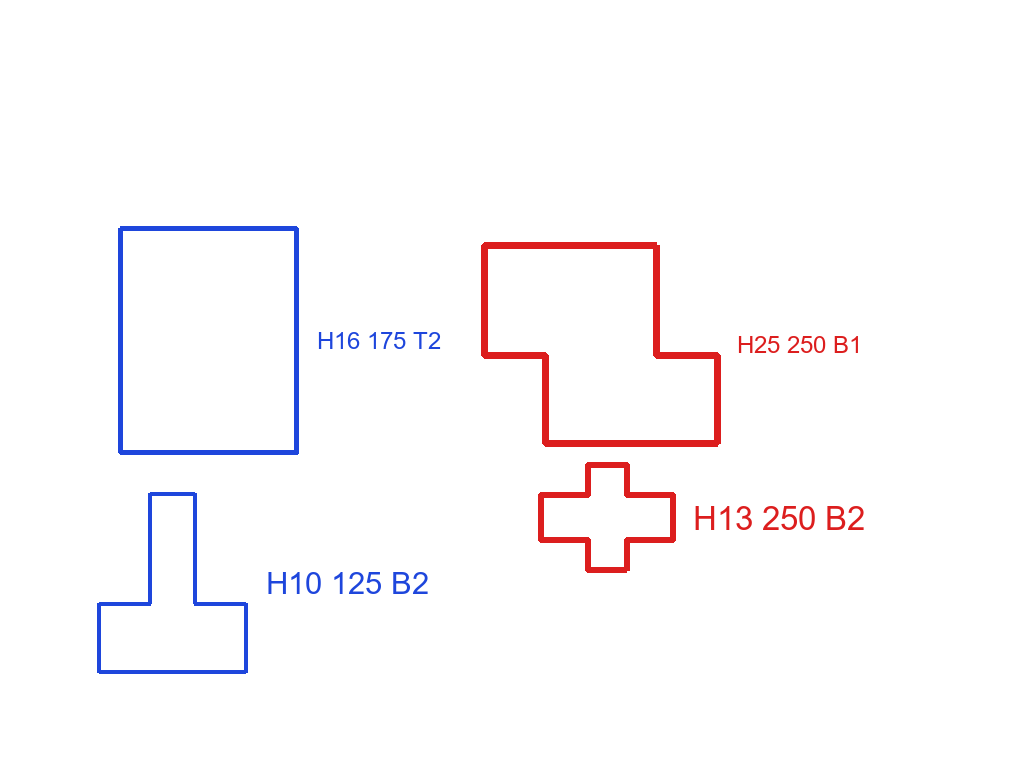shape: (479, 240, 723, 449), (116, 224, 301, 457), (95, 489, 250, 677), (537, 459, 678, 576)
text: (691, 504, 867, 532), (264, 570, 431, 596), (735, 334, 864, 355), (315, 330, 443, 351)
